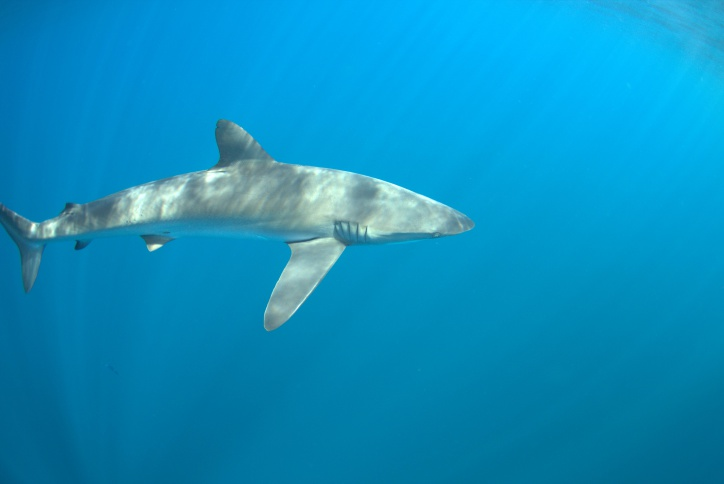Sedoso: (1, 117, 488, 344)
